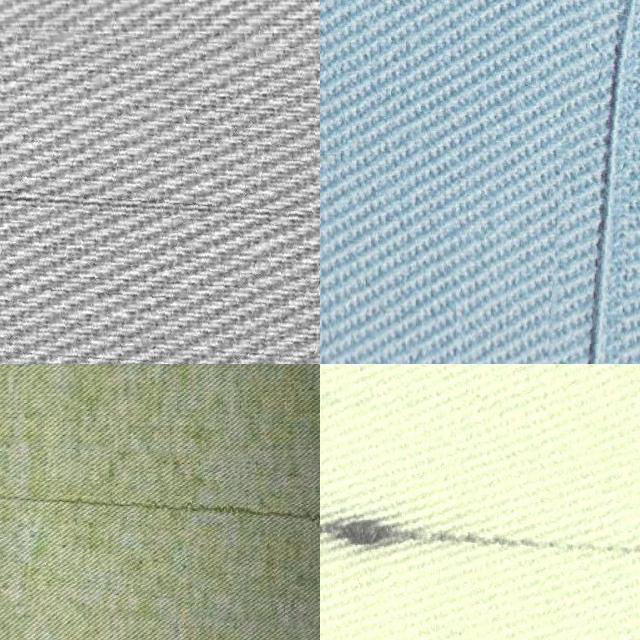Thread_other: (0, 19, 320, 364), (320, 425, 640, 640), (0, 442, 320, 628), (550, 0, 640, 364)
